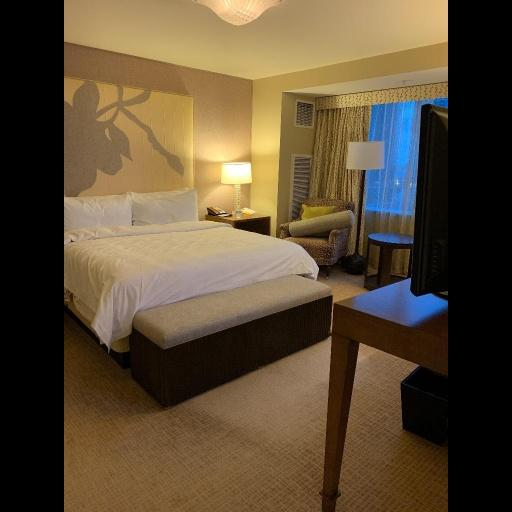clean_bed: (63, 77, 317, 314), (224, 158, 259, 217)
clean_floor: (64, 313, 334, 511), (335, 341, 448, 511)
lamp: (345, 142, 384, 274)
organised_pillow: (63, 187, 203, 243)
